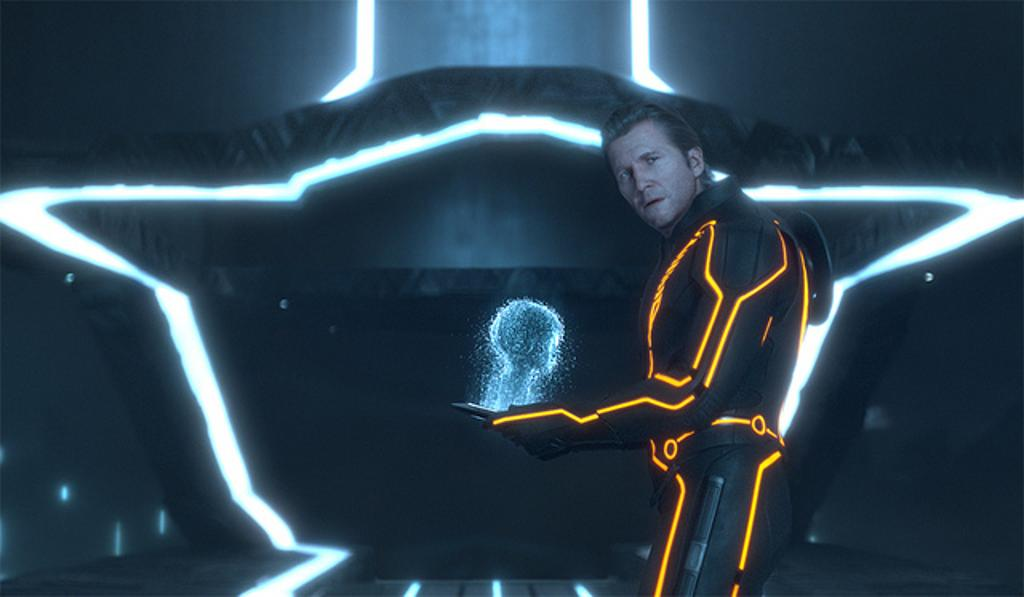face: (614, 122, 676, 222)
